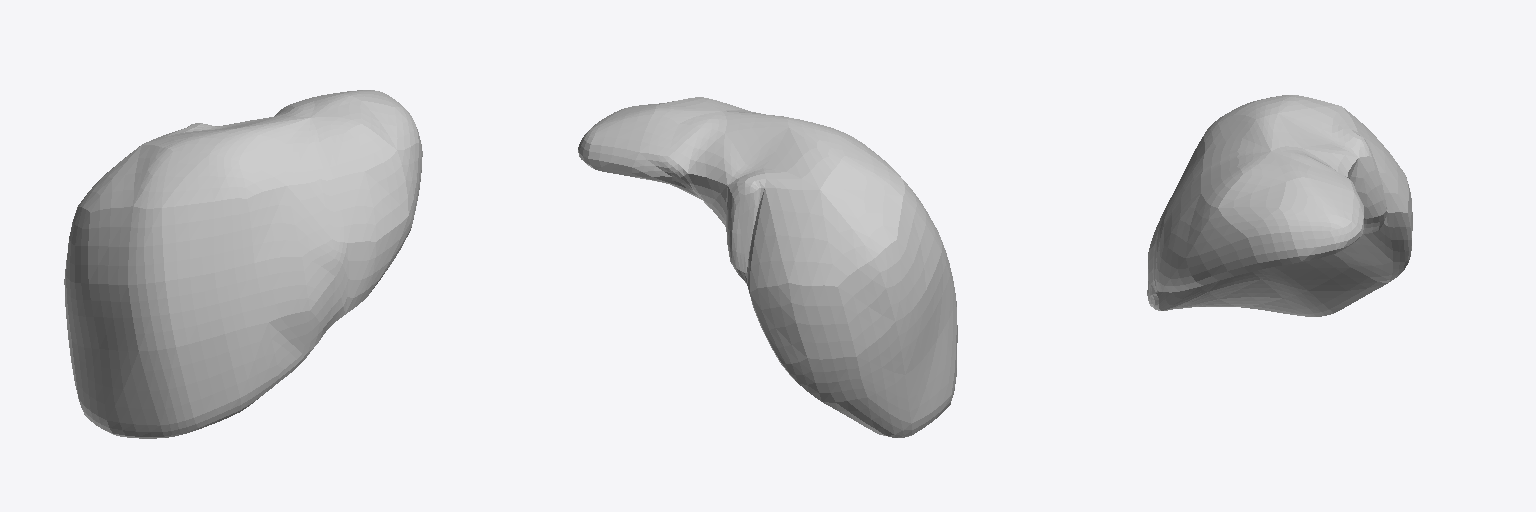
File: baseLiver_surface.obj
3 views of the same model, side by side, from view 1: azimuth 30°, elevation 25°; view 2: azimuth 150°, elevation 25°; view 3: azimuth 270°, elevation 25° (orthographic).
Parts seen in each view (by area): view 1: Mesh1; view 2: Mesh1; view 3: Mesh1.
Part boxes in pixels (bbox=[...]): Mesh1: bbox=[64, 90, 422, 438]; Mesh1: bbox=[578, 97, 957, 437]; Mesh1: bbox=[1147, 95, 1412, 316].
Size of the model in its own units: 0.2107 by 0.1619 by 0.1456.